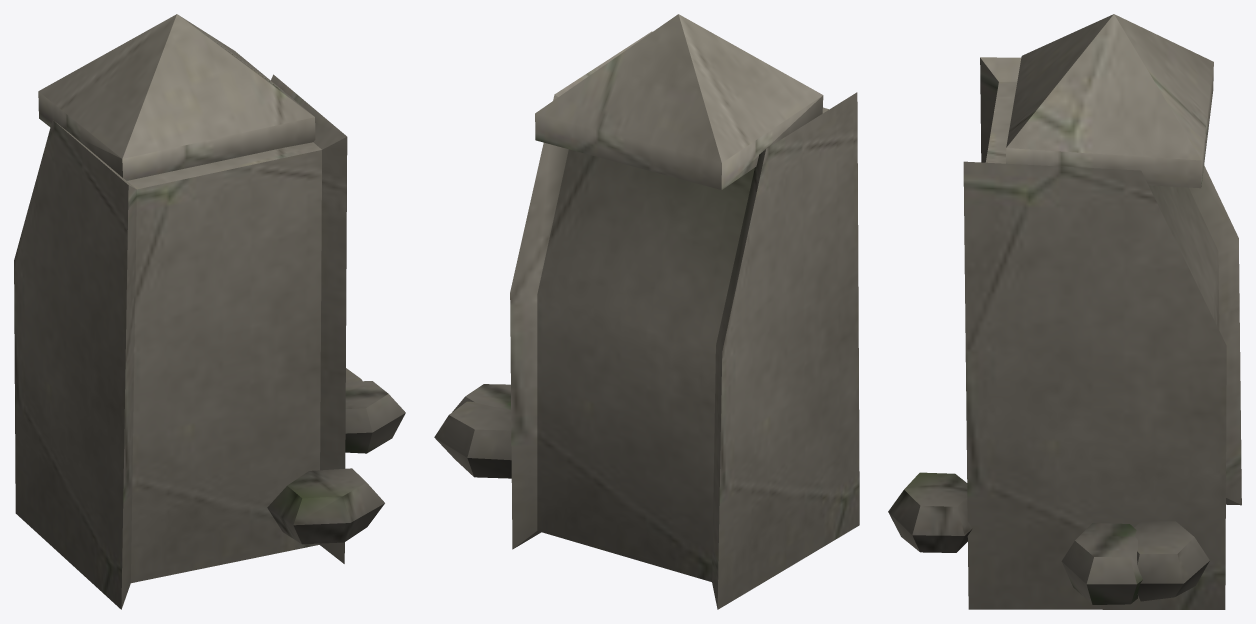
The model's file is milestone.glb.
3 renders of one model, left to right at view 1: azimuth 30°, elevation 25°; view 2: azimuth 150°, elevation 25°; view 3: azimuth 270°, elevation 25°, orthographic. The views are drawn at different scales.
Visible parts, largest first — view 1: milestone; view 2: milestone; view 3: milestone.
Boxes of the visible parts, x1,y1,x2,y2 form: milestone: (14,14,405,609); milestone: (434,14,859,609); milestone: (888,14,1241,609).
Bounding box in the file's own units: 0.6214 × 0.9328 × 0.5481.
Materials: 1 (1 with a texture image).
